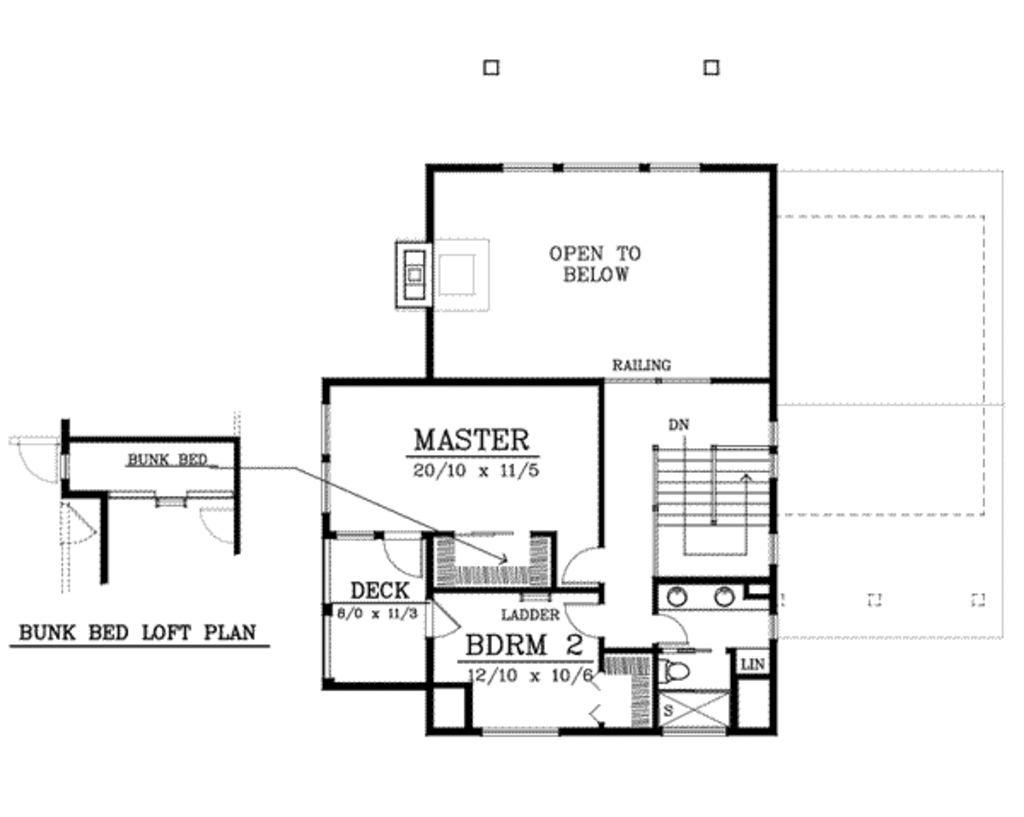door: (7, 430, 58, 488), (378, 524, 428, 580), (553, 542, 602, 591), (558, 599, 611, 644), (54, 506, 97, 548), (193, 501, 238, 540), (425, 601, 462, 644), (650, 609, 691, 647)
large_sink: (649, 652, 707, 692)
small_sink: (658, 587, 781, 616)
stairs: (649, 433, 768, 574)
window: (493, 153, 709, 183), (483, 723, 558, 743), (667, 726, 729, 738)
